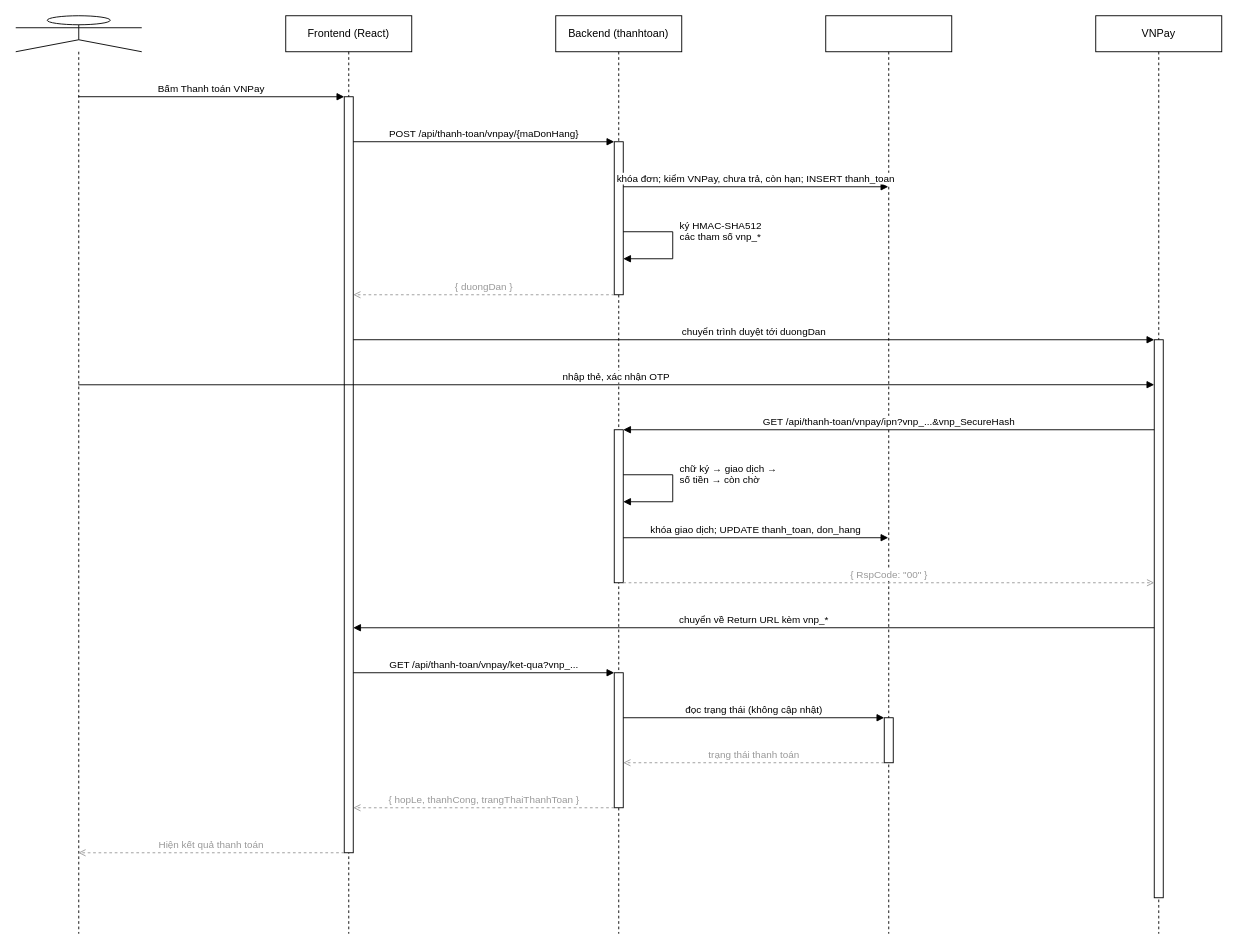
Some shapes in this 1238 by 950 pixel diagram are drawn without their labels. The shapes that lost their labels are listed below. From the top down, each one's box as (x1, y1, x2, y2) in pixels, then its label:
(15, 15, 142, 934): Khách hàng
(825, 15, 952, 934): PostgreSQL
